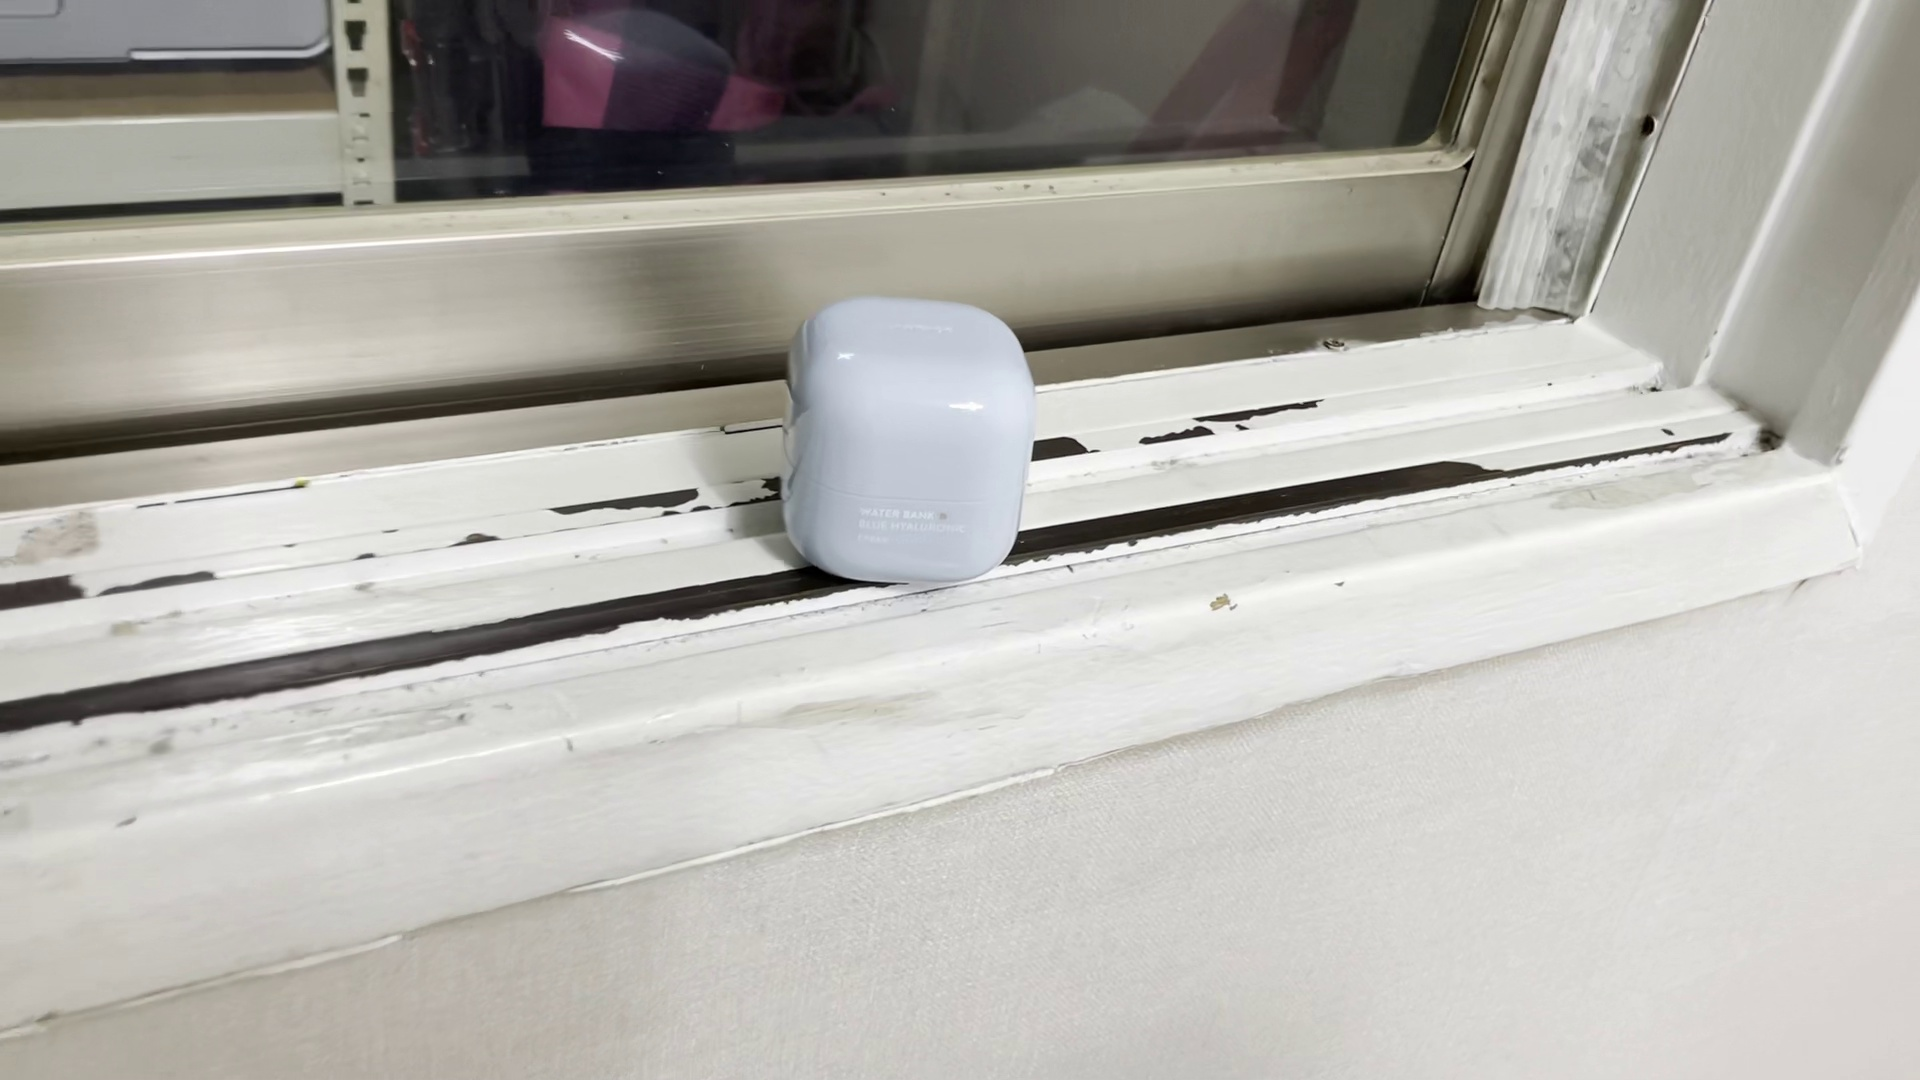cream: (785, 299, 1029, 585)
